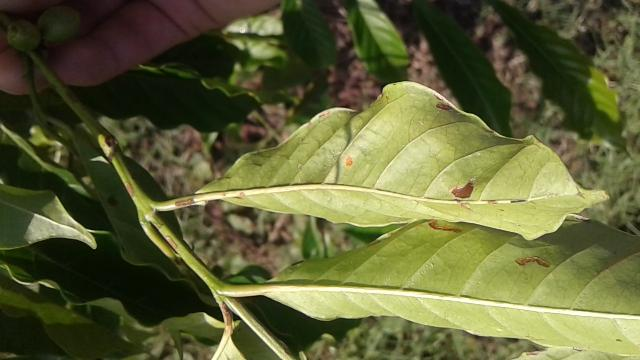red_spider_mite: (196, 78, 623, 244)
